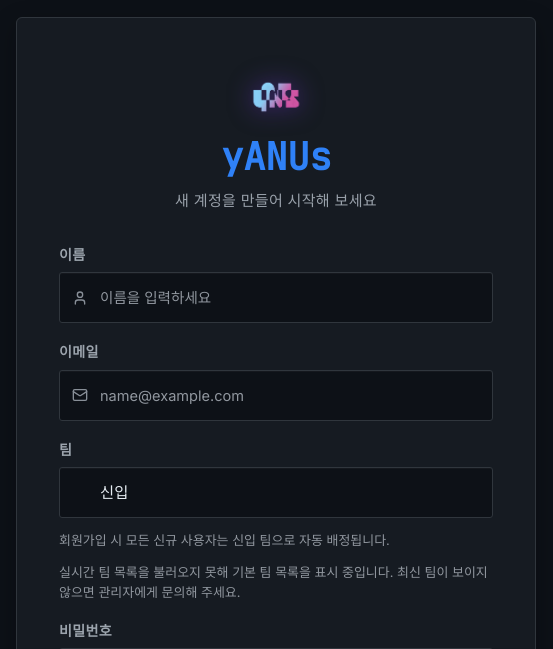
Scenario: Register 페이지 › 비밀번호 확인이 다르면 에러를 표시한다
Type "홍길동" into the field labelled "이름" at (276, 298), box [59,272,493,324]
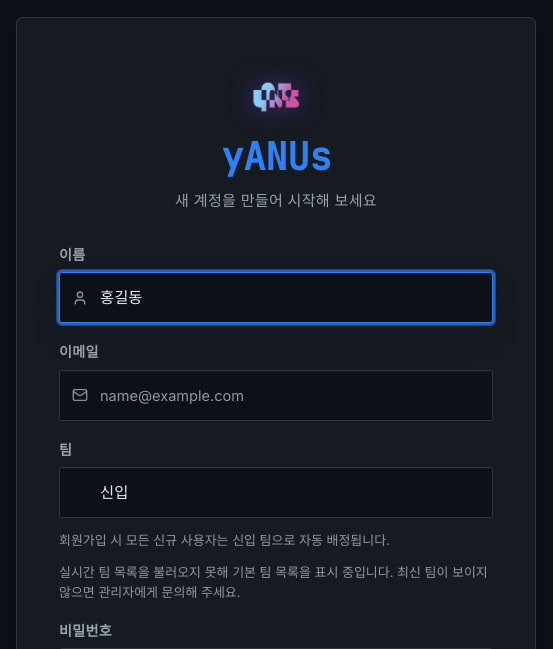
Type "user@test.com" into the field labelled "이메일" at (276, 395), box [59,370,493,421]
(page scrolled)
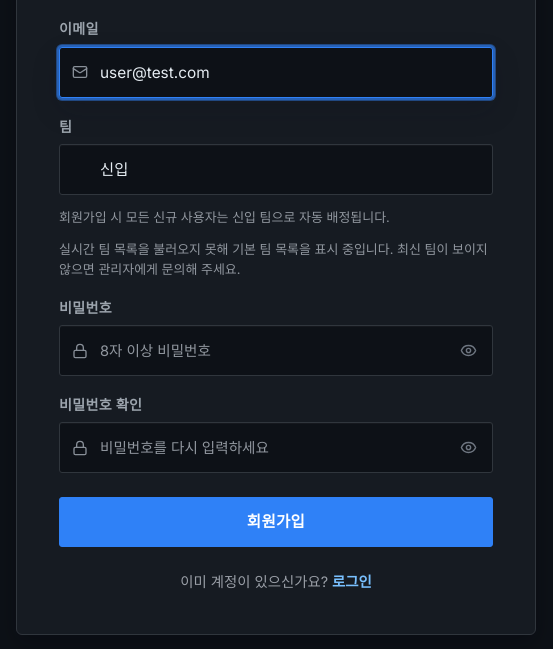
Type "password123" into the password field labelled "비밀번호" at (276, 351), box [59,325,493,376]
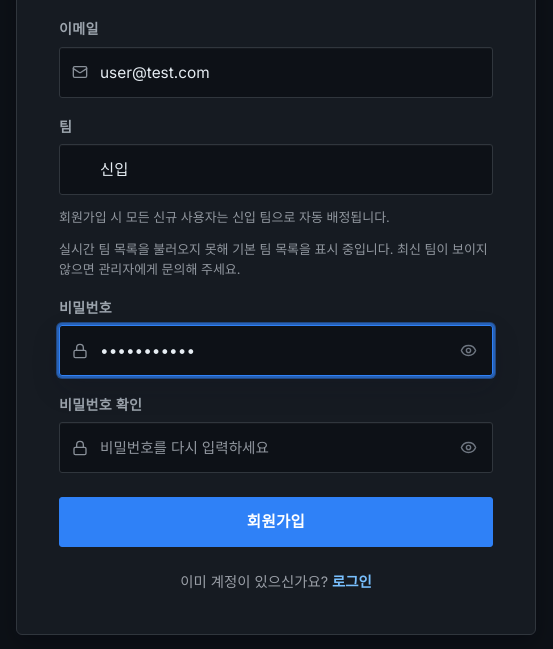
Type "password456" into the password field labelled "비밀번호 확인" at (276, 448), box [59,422,493,473]
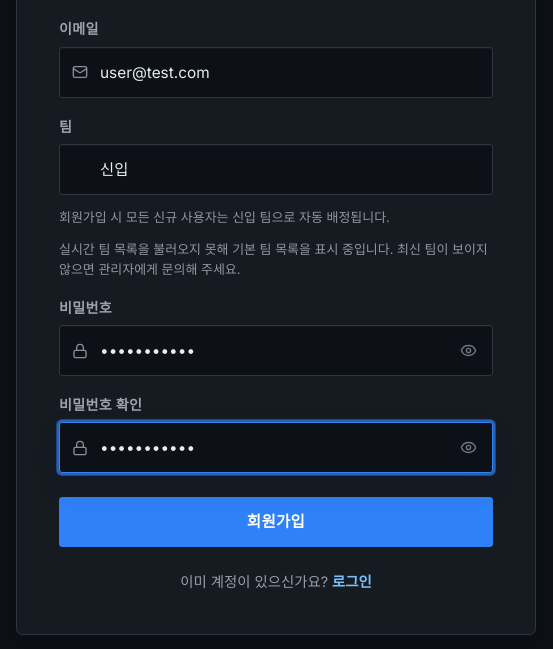
Click the button "회원가입" at (276, 522), box [59,497,493,547]
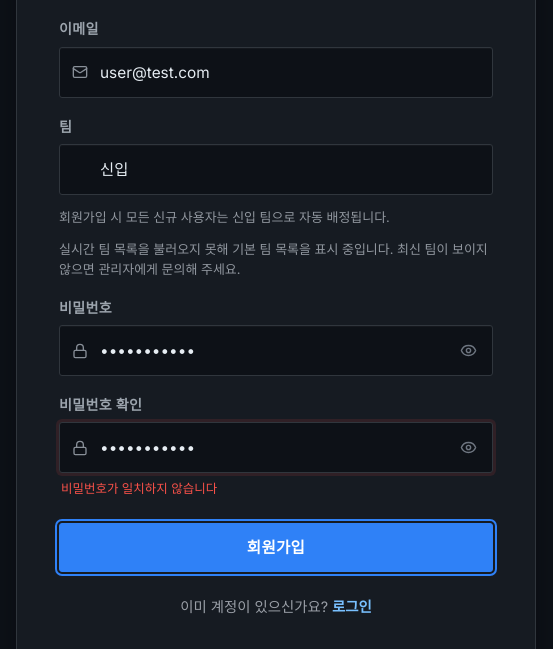
Check: the text "비밀번호가 일치하지 않습니다" is shown, box [61,481,217,496]
